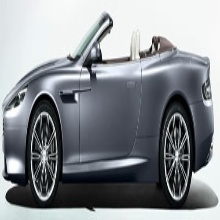no damage: (2, 10, 214, 206)
